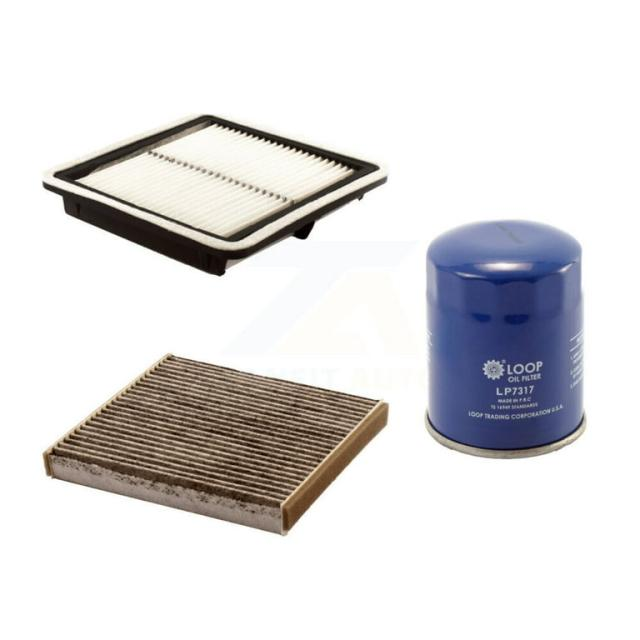air_filter: (32, 349, 394, 538), (33, 109, 398, 278)
oil_filter: (416, 221, 592, 461)
